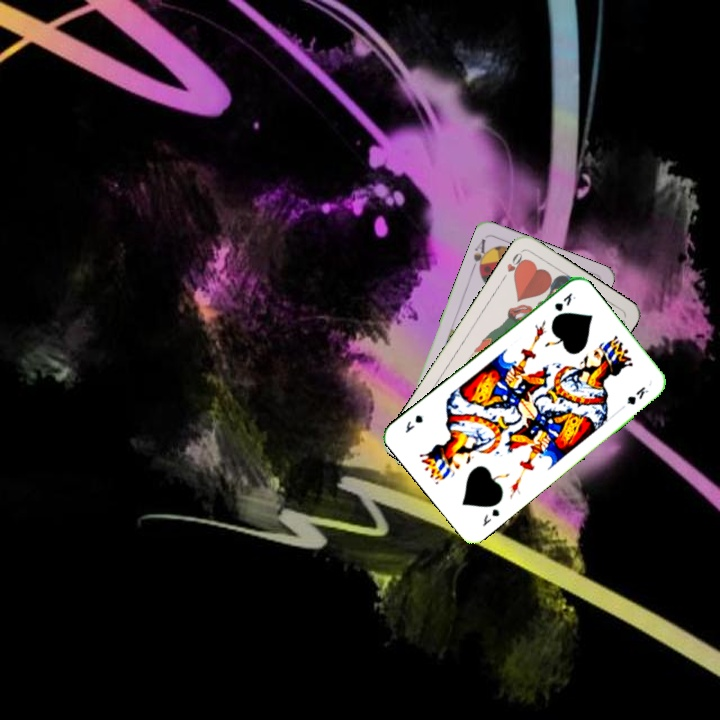GK: (550, 289, 575, 314), (478, 504, 502, 529)
HO: (498, 247, 528, 284)
SA: (468, 234, 492, 276)
